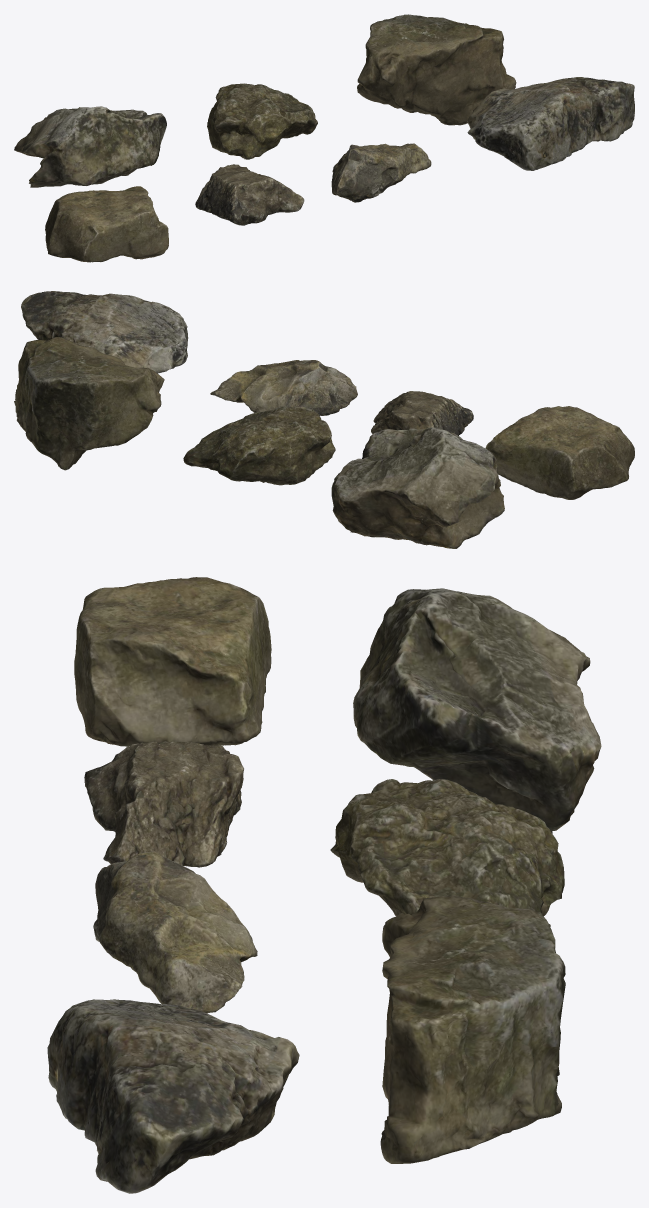
The model's file is rock_moss_set_02.fbx.
3 renders of one model, top to bottom at view 1: azimuth 30°, elevation 25°; view 2: azimuth 150°, elevation 25°; view 3: azimuth 270°, elevation 25°, orthographic. The views are drawn at different scales.
Visible parts, largest first — view 1: rock_moss_set_02_rock13, rock_moss_set_02_rock10, rock_moss_set_02_rock11, rock_moss_set_02_rock07, rock_moss_set_02_rock12, rock_moss_set_02_rock08, rock_moss_set_02_rock09; view 2: rock_moss_set_02_rock11, rock_moss_set_02_rock13, rock_moss_set_02_rock07, rock_moss_set_02_rock10, rock_moss_set_02_rock12, rock_moss_set_02_rock09, rock_moss_set_02_rock08; view 3: rock_moss_set_02_rock13, rock_moss_set_02_rock11, rock_moss_set_02_rock10, rock_moss_set_02_rock07, rock_moss_set_02_rock12, rock_moss_set_02_rock09, rock_moss_set_02_rock08.
Boxes of the visible parts, bbox=[...] form: rock_moss_set_02_rock13: bbox=[357, 14, 516, 125]; rock_moss_set_02_rock10: bbox=[467, 77, 634, 170]; rock_moss_set_02_rock11: bbox=[14, 106, 166, 187]; rock_moss_set_02_rock07: bbox=[45, 186, 168, 262]; rock_moss_set_02_rock12: bbox=[207, 83, 317, 159]; rock_moss_set_02_rock08: bbox=[195, 164, 304, 225]; rock_moss_set_02_rock09: bbox=[331, 143, 431, 202]; rock_moss_set_02_rock11: bbox=[331, 427, 504, 548]; rock_moss_set_02_rock13: bbox=[14, 337, 164, 470]; rock_moss_set_02_rock07: bbox=[485, 406, 634, 499]; rock_moss_set_02_rock10: bbox=[21, 291, 188, 373]; rock_moss_set_02_rock12: bbox=[183, 406, 335, 485]; rock_moss_set_02_rock09: bbox=[210, 360, 357, 415]; rock_moss_set_02_rock08: bbox=[371, 391, 473, 435]; rock_moss_set_02_rock13: bbox=[380, 895, 565, 1163]; rock_moss_set_02_rock11: bbox=[353, 588, 601, 833]; rock_moss_set_02_rock10: bbox=[47, 999, 299, 1193]; rock_moss_set_02_rock07: bbox=[74, 577, 271, 746]; rock_moss_set_02_rock12: bbox=[330, 779, 564, 926]; rock_moss_set_02_rock09: bbox=[93, 851, 257, 1013]; rock_moss_set_02_rock08: bbox=[84, 741, 243, 867].
Bounding box in the file's own units: 8.28 × 1.37 × 3.41.
